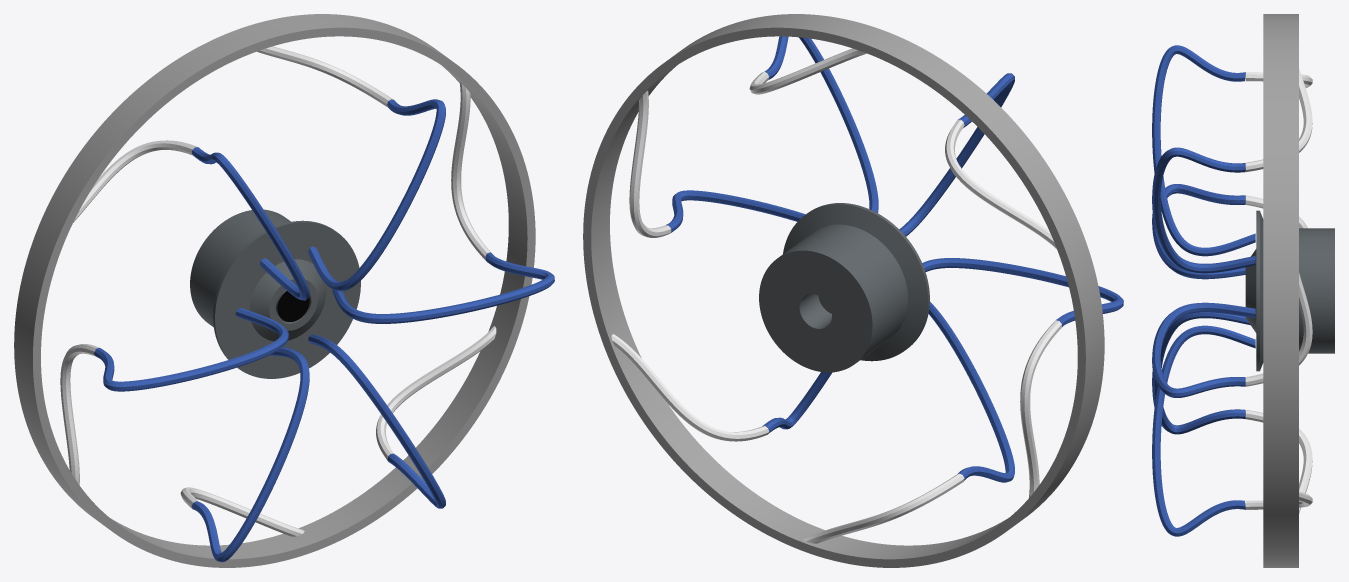
Rendered from rim.dae.
3 renders of one model, left to right at view 1: azimuth 30°, elevation 25°; view 2: azimuth 150°, elevation 25°; view 3: azimuth 270°, elevation 25°, orthographic. The views are drawn at different scales.
Parts seen in each view (by area): view 1: 625148097507f1061bf885b5 (×14); view 2: 625148097507f1061bf885b5 (×14); view 3: 625148097507f1061bf885b5 (×14).
Boxes of the visible parts, <box> form: 625148097507f1061bf885b5 (×14): <box>14,14,554,567</box>; 625148097507f1061bf885b5 (×14): <box>583,14,1123,567</box>; 625148097507f1061bf885b5 (×14): <box>1152,14,1334,567</box>.
Bounding box in the file's own units: 0.31 × 0.1023 × 0.31.
